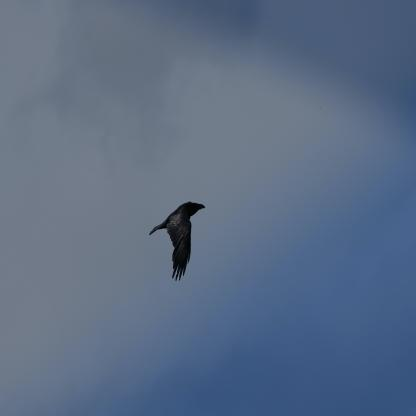bird: (150, 201, 206, 282)
